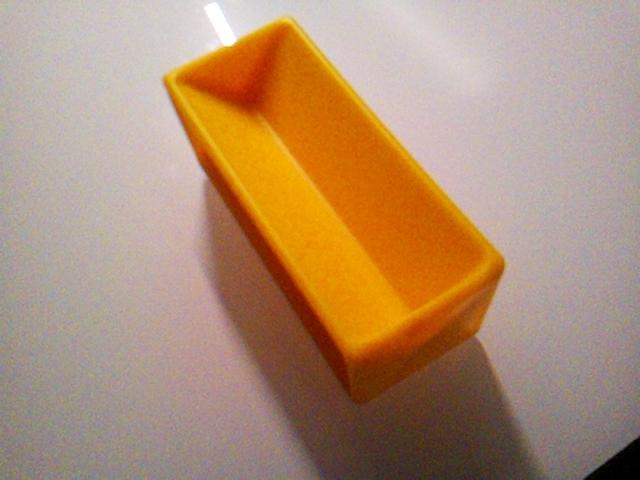yellow: (162, 15, 507, 404)
